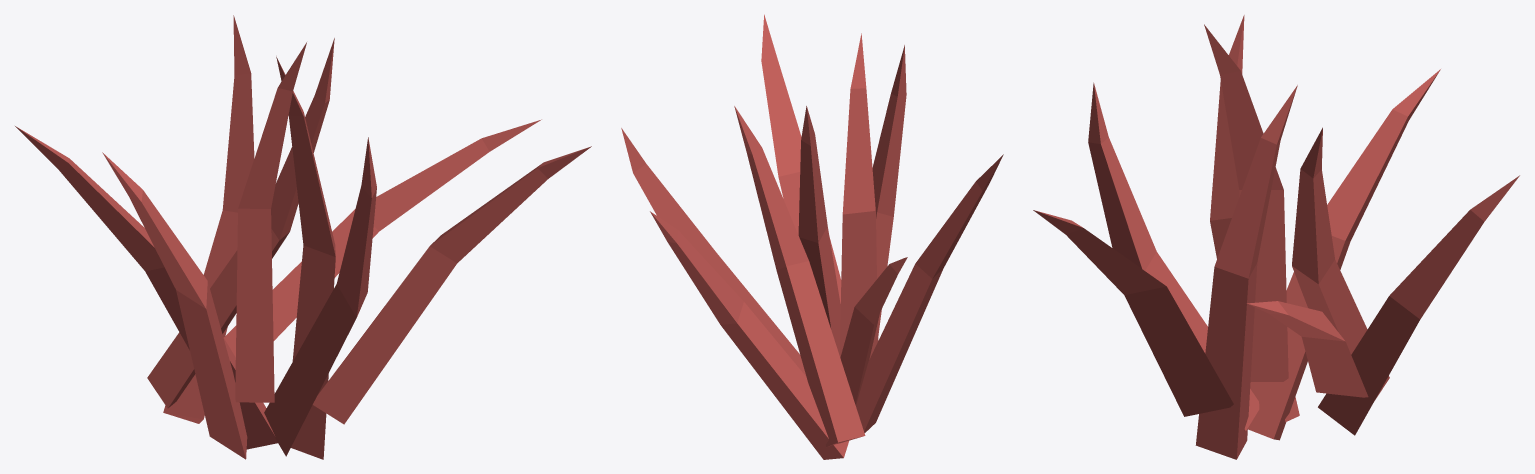
The model's file is plantherbe_2.fbx.
The picture shows the model from 3 angles, left to right: view 1: azimuth 30°, elevation 25°; view 2: azimuth 150°, elevation 25°; view 3: azimuth 270°, elevation 25°; orthographic projection. The views are drawn at different scales.
Visible parts, largest first — view 1: SmallAlienGrass2; view 2: SmallAlienGrass2; view 3: SmallAlienGrass2.
Boxes of the visible parts, x1,y1,x2,y2 form: SmallAlienGrass2: (15, 15, 591, 459); SmallAlienGrass2: (621, 14, 1003, 459); SmallAlienGrass2: (1033, 15, 1519, 459).
Bounding box in the file's own units: 140 × 130 × 135.
